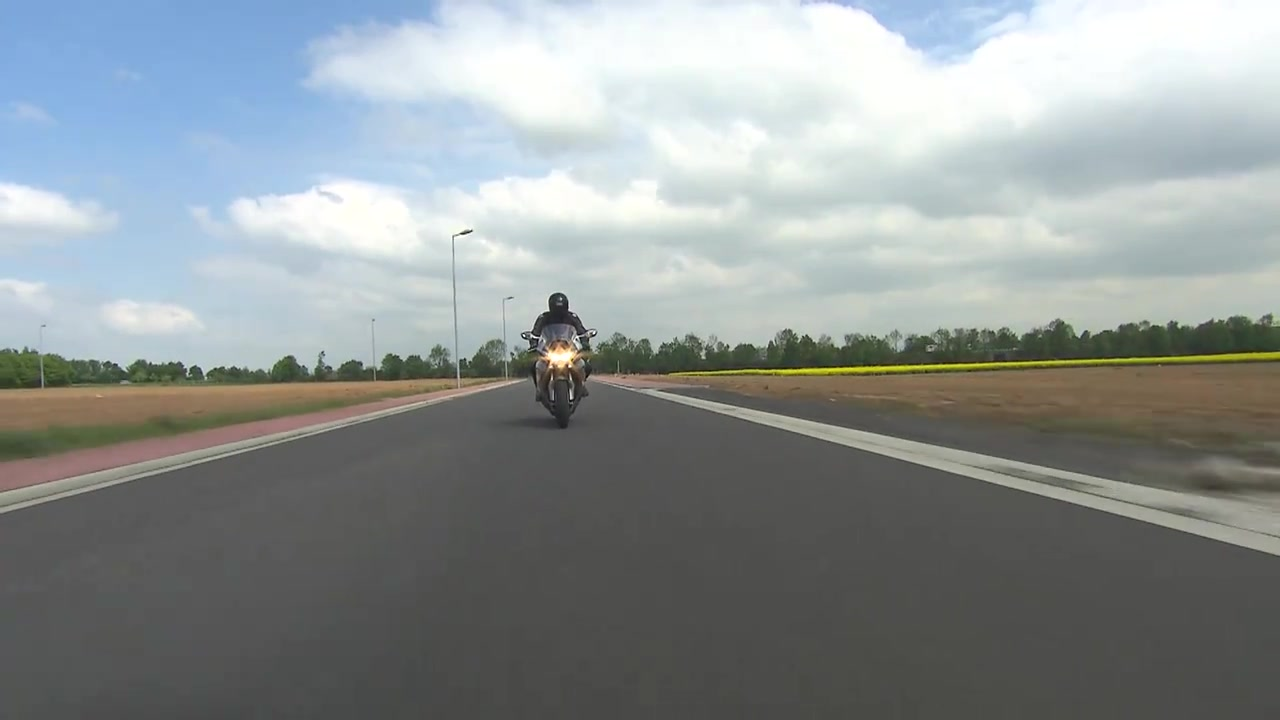motorbike: (524, 324, 601, 424)
